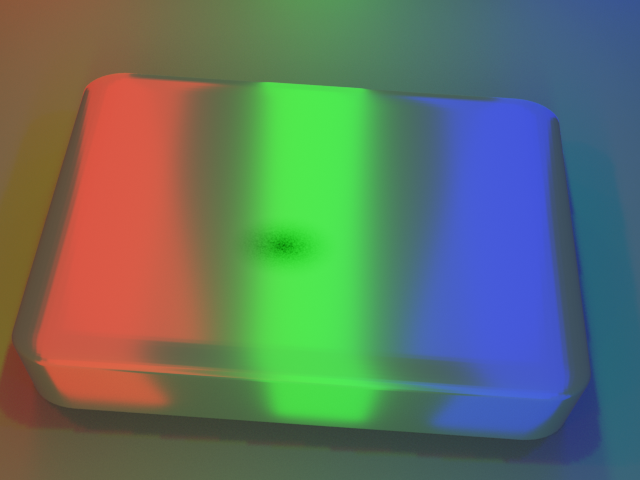stain: (191, 195, 399, 316)
